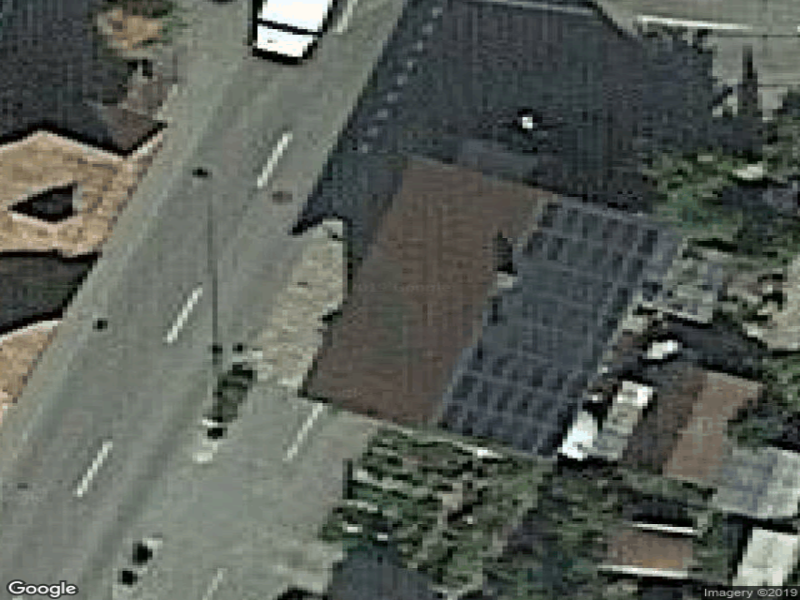pv: (436, 201, 662, 464)
